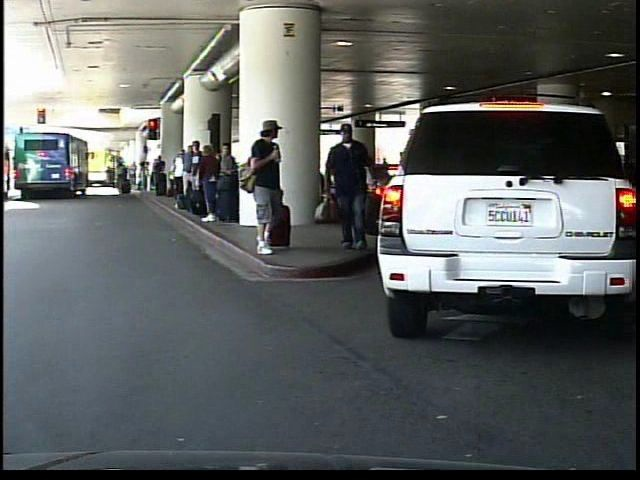person: (326, 122, 384, 253), (247, 118, 297, 255)
